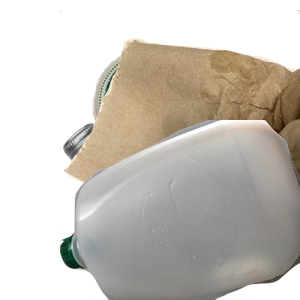glass: (60, 120, 300, 300)
metal: (90, 44, 289, 195)
plastic: (60, 120, 300, 300)
trash: (60, 10, 300, 190)
